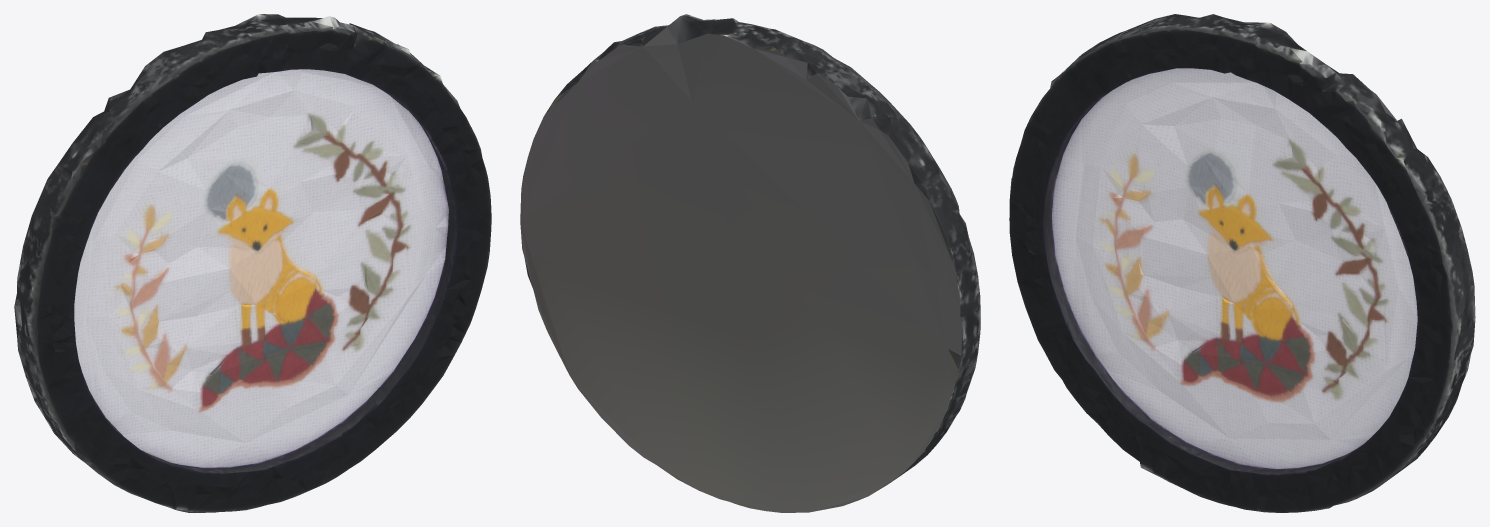
File: FB1DA046-4BF6-AF4F-ADBD-382FBB2960CD_512.glb
3 views of the same model, side by side, from view 1: azimuth 30°, elevation 25°; view 2: azimuth 150°, elevation 25°; view 3: azimuth 330°, elevation 25° (orthographic).
Parts seen in each view (by area): view 1: _Stickerei_Fuchs_1k; view 2: _Stickerei_Fuchs_1k; view 3: _Stickerei_Fuchs_1k.
Boxes of the visible parts, x1,y1,x2,y2 form: _Stickerei_Fuchs_1k: [14, 14, 491, 512]; _Stickerei_Fuchs_1k: [520, 14, 980, 512]; _Stickerei_Fuchs_1k: [1009, 14, 1475, 512].
Bounding box in the file's own units: 0.0566 × 0.0564 × 0.0059.
Materials: 1 (1 with a texture image).
